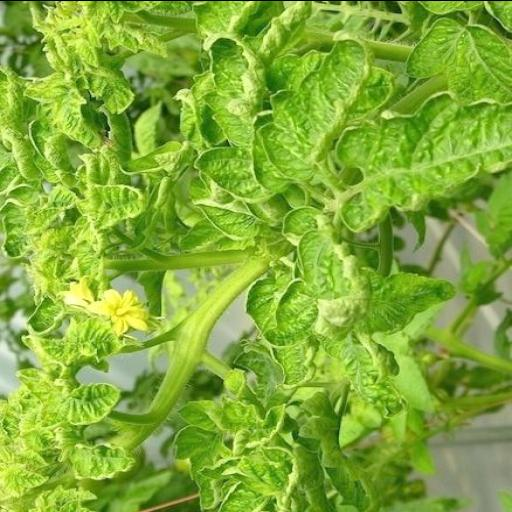disease_tomato: (331, 88, 512, 232), (188, 26, 298, 200), (270, 30, 372, 172), (262, 233, 372, 346), (346, 264, 462, 336), (21, 312, 125, 389), (40, 58, 116, 152), (218, 440, 302, 510), (199, 183, 263, 249), (60, 436, 136, 482), (79, 182, 150, 228), (63, 380, 125, 426)
